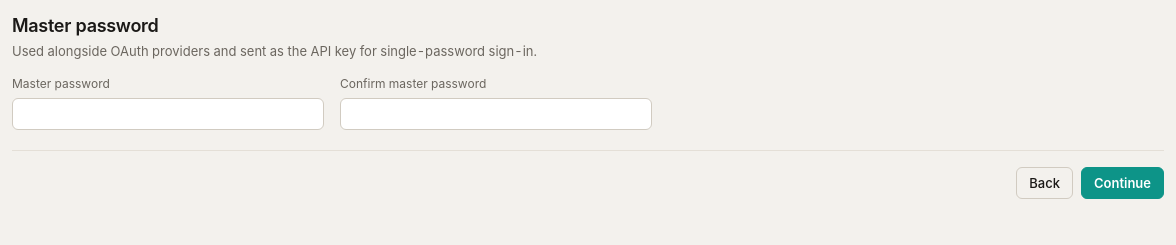
setup wizard pages › shows error for empty master password
Click the button "Continue": [1122, 183] box [1081,167,1164,199]
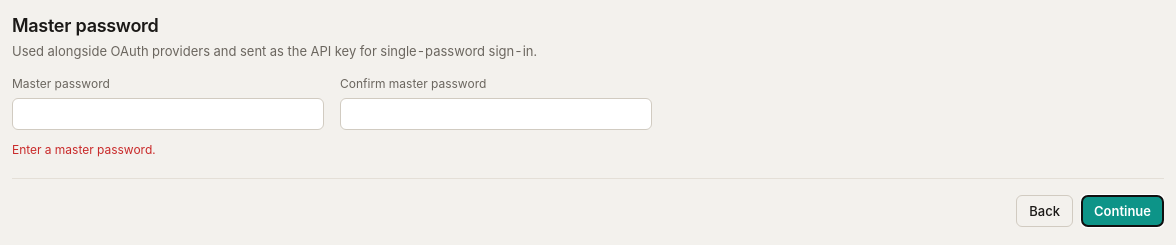
Check: the text "Enter a master password." is shown, box [12,142,156,157]
